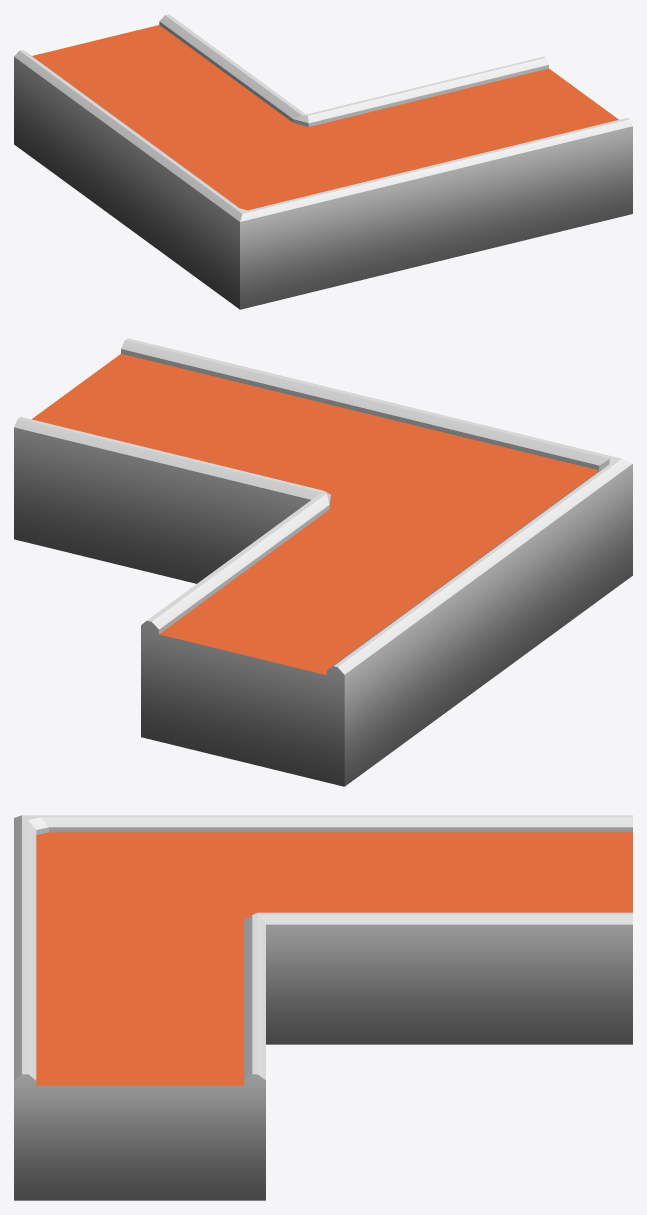
File: Sharp_Edge_Pavement.fbx
3 renders of one model, top to bottom at view 1: azimuth 30°, elevation 25°; view 2: azimuth 150°, elevation 25°; view 3: azimuth 270°, elevation 25°, orthographic. The views are drawn at different scales.
Visible parts, largest first — view 1: Sharp_Edge_Pavement; view 2: Sharp_Edge_Pavement; view 3: Sharp_Edge_Pavement.
Boxes of the visible parts, left/top/right/bottom form: Sharp_Edge_Pavement: left=14, top=14, right=632, bottom=309; Sharp_Edge_Pavement: left=14, top=338, right=632, bottom=786; Sharp_Edge_Pavement: left=14, top=815, right=632, bottom=1200.
Bounding box in the file's own units: 199 × 44.72 × 198.
